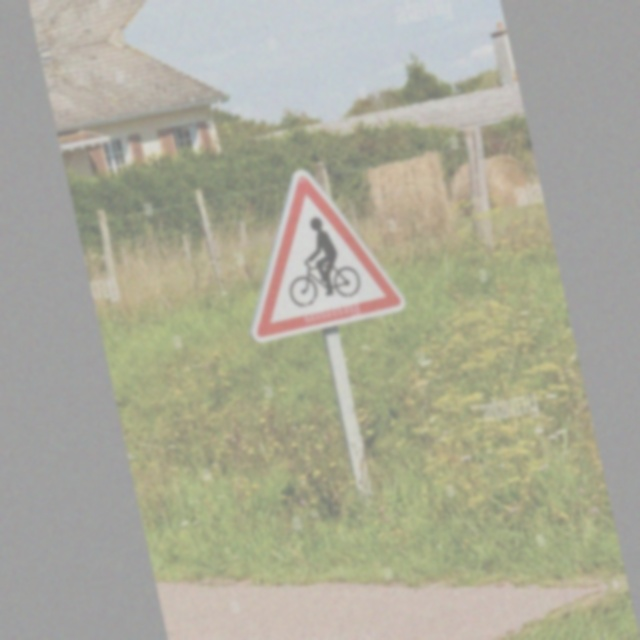Cycle_Crossing: (232, 157, 409, 347)
